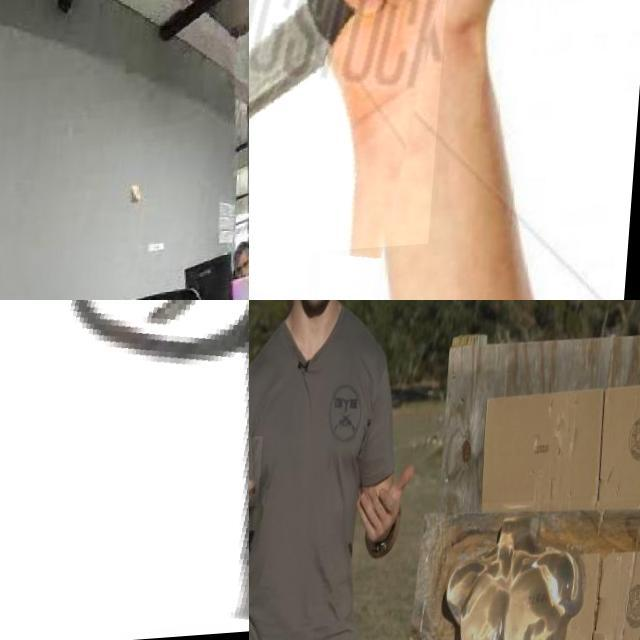-: (249, 0, 460, 271), (249, 439, 273, 512)
gun-knife-thesis - v11 Yolov5 augmented: (0, 300, 249, 640)
